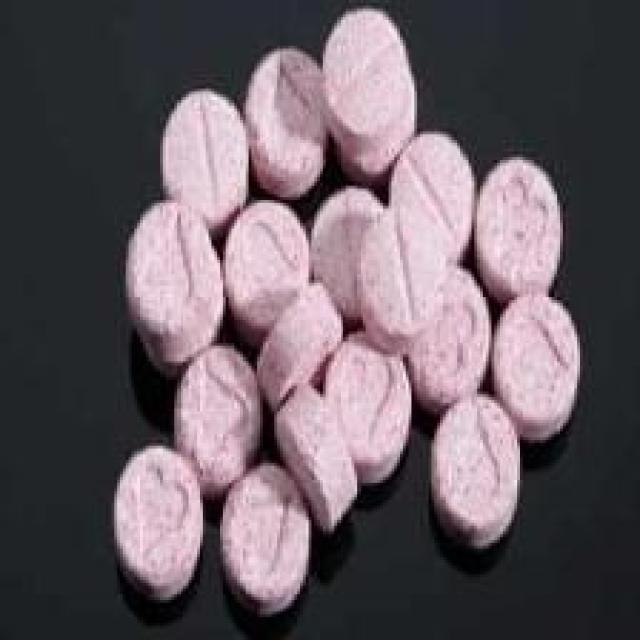Medicine: (113, 2, 602, 634)
